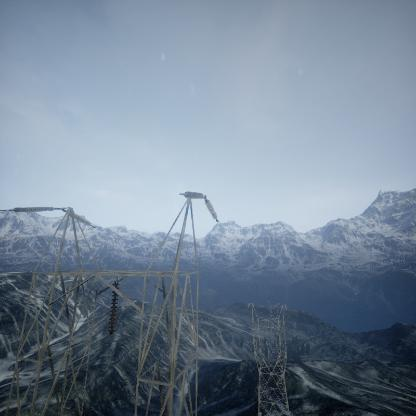insulator: (107, 281, 122, 335), (68, 209, 94, 226), (11, 204, 58, 212), (205, 199, 220, 223), (181, 189, 206, 202)
tower: (243, 299, 294, 416)
